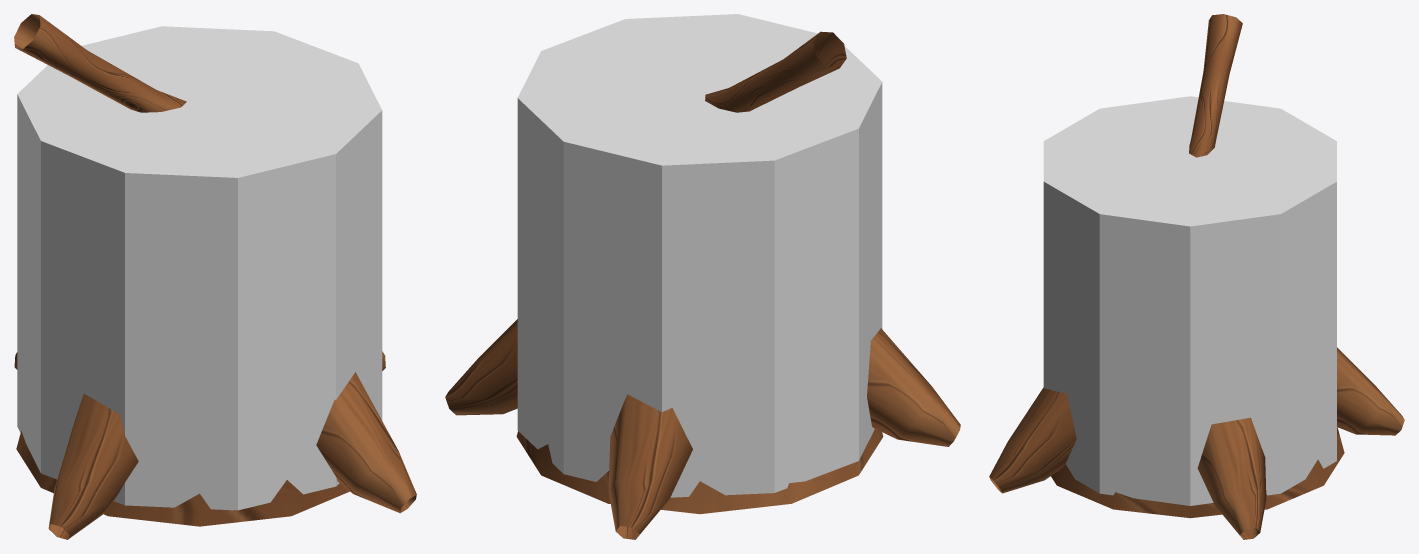
Rendered from SM_ChoppingBlock.fbx.
The picture shows the model from 3 angles, left to right: view 1: azimuth 30°, elevation 25°; view 2: azimuth 150°, elevation 25°; view 3: azimuth 270°, elevation 25°; orthographic projection. The views are drawn at different scales.
Parts seen in each view (by area): view 1: ChoppingBlock_Col0, ChoppingBlock_Body; view 2: ChoppingBlock_Col0, ChoppingBlock_Body; view 3: ChoppingBlock_Col0, ChoppingBlock_Body.
Boxes of the visible parts, <box> form: ChoppingBlock_Col0: <box>17,26,382,510</box>; ChoppingBlock_Body: <box>14,14,416,539</box>; ChoppingBlock_Col0: <box>517,14,882,497</box>; ChoppingBlock_Body: <box>445,31,960,539</box>; ChoppingBlock_Col0: <box>1043,96,1336,505</box>; ChoppingBlock_Body: <box>989,14,1404,539</box>.
Size of the model in its own units: 3.06 by 3.15 by 3.1.
